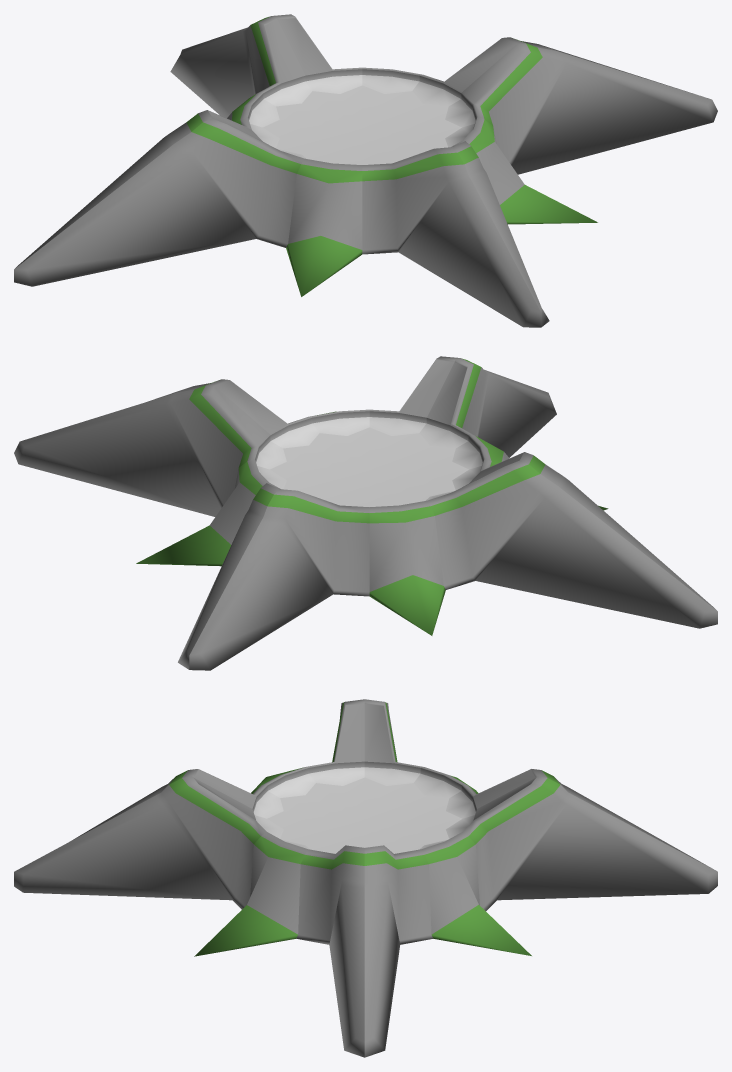
File: LevelEndBase.fbx
The picture shows the model from 3 angles, top to bottom: view 1: azimuth 30°, elevation 25°; view 2: azimuth 150°, elevation 25°; view 3: azimuth 270°, elevation 25°; orthographic projection. The views are drawn at different scales.
Parts seen in each view (by area): view 1: CheckPoint; view 2: CheckPoint; view 3: CheckPoint.
Part boxes in pixels (x1,y1,x2,y2): CheckPoint: (14, 14, 717, 327); CheckPoint: (14, 356, 717, 670); CheckPoint: (14, 699, 717, 1057).
Bounding box in the file's own units: 762 × 120 × 673.
